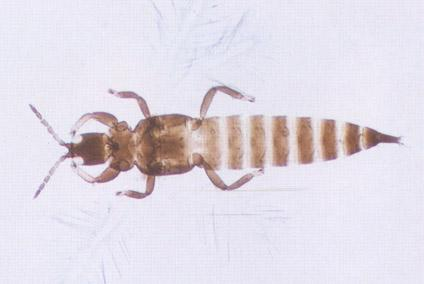Phlaeothripidae: (30, 83, 402, 200)
